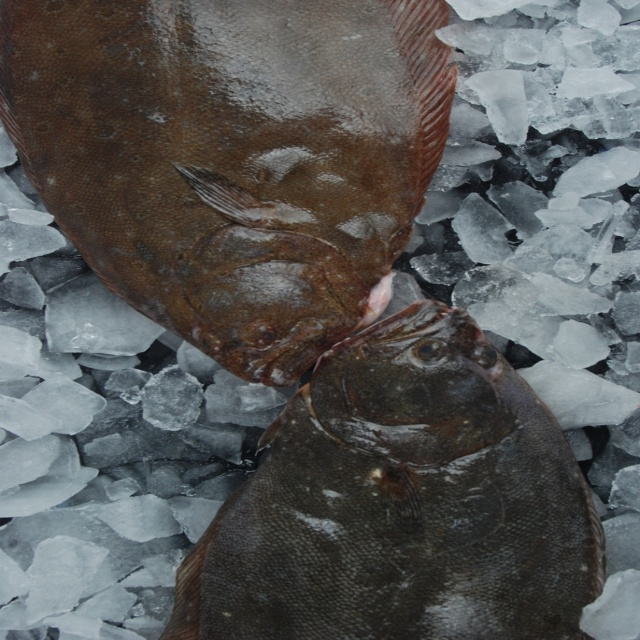Fish: (0, 0, 460, 403), (160, 297, 589, 640)
